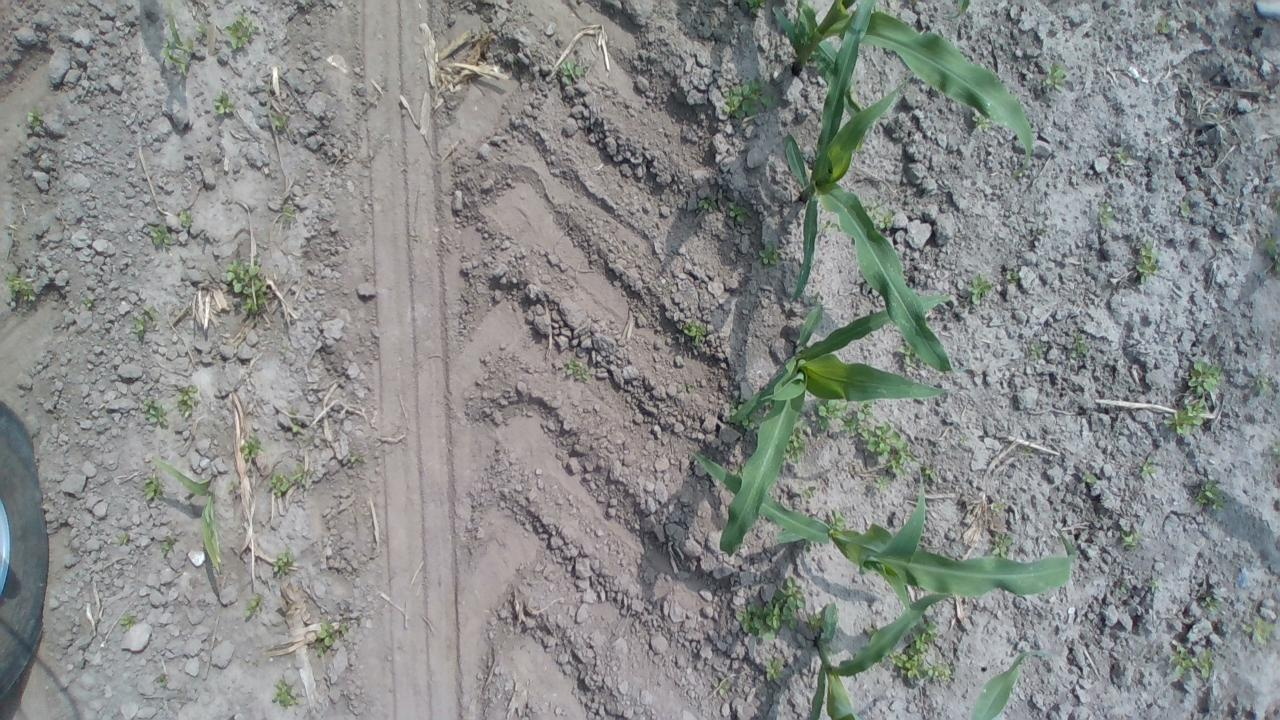Maize: (784, 0, 978, 381), (680, 446, 1077, 628), (718, 286, 961, 556), (769, 0, 1039, 164), (806, 588, 1050, 720), (148, 454, 224, 576), (160, 3, 197, 79)
Weeds: (735, 576, 806, 642), (850, 416, 920, 480), (890, 620, 955, 683), (160, 3, 197, 78), (224, 257, 268, 312), (720, 78, 777, 120), (1166, 641, 1216, 679), (1163, 400, 1207, 438), (269, 462, 315, 498), (312, 618, 354, 657), (1187, 358, 1223, 400), (782, 417, 812, 467), (222, 13, 260, 51), (2, 272, 38, 310), (812, 395, 848, 432), (1135, 239, 1161, 285), (863, 198, 896, 231), (838, 400, 872, 432), (1192, 478, 1224, 512), (1037, 62, 1072, 93), (965, 270, 993, 307), (1242, 616, 1275, 646), (174, 384, 200, 419), (272, 678, 302, 708), (210, 88, 238, 118), (240, 428, 266, 460), (556, 60, 588, 86), (144, 399, 172, 428), (989, 530, 1014, 560), (725, 200, 753, 226), (682, 319, 707, 347), (146, 224, 173, 248), (756, 241, 780, 268), (144, 474, 166, 503), (763, 656, 787, 682), (272, 550, 294, 578), (566, 356, 590, 381), (1137, 452, 1158, 480), (898, 341, 922, 365), (1118, 524, 1140, 550), (742, 408, 764, 433), (242, 594, 264, 618), (1069, 332, 1089, 358), (806, 610, 824, 636), (1098, 202, 1115, 228), (270, 111, 292, 131), (697, 194, 717, 214), (828, 508, 848, 528), (1028, 340, 1046, 362), (744, 0, 770, 15), (1261, 232, 1277, 256), (973, 114, 993, 133), (712, 677, 732, 696), (919, 462, 939, 481), (119, 611, 138, 630), (1202, 596, 1220, 616), (1253, 374, 1271, 394), (26, 108, 42, 130), (804, 293, 824, 310), (818, 220, 842, 234), (872, 474, 894, 489), (178, 209, 195, 228), (1153, 16, 1170, 35), (144, 304, 160, 324), (727, 399, 744, 416), (1112, 148, 1130, 164), (1011, 162, 1029, 178), (678, 378, 696, 394), (130, 314, 144, 334), (1081, 469, 1097, 486), (282, 204, 297, 222), (1005, 268, 1020, 284), (159, 539, 175, 554), (81, 295, 97, 310), (1179, 200, 1192, 218), (347, 450, 362, 465), (196, 20, 210, 36), (864, 622, 878, 637), (800, 486, 814, 500), (116, 531, 130, 545), (290, 420, 303, 434), (1020, 444, 1034, 456), (1116, 582, 1129, 594), (990, 502, 1004, 512)
